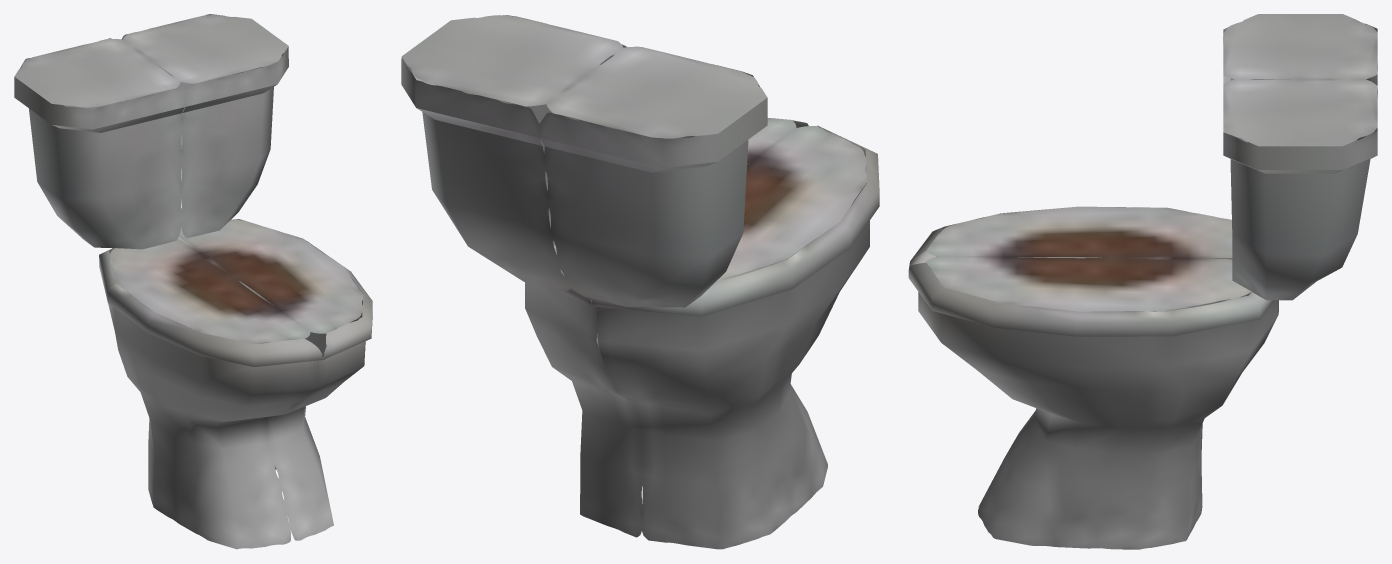
File: toilet--2.gltf
3 views of the same model, side by side, from view 1: azimuth 30°, elevation 25°; view 2: azimuth 150°, elevation 25°; view 3: azimuth 270°, elevation 25° (orthographic). The views are drawn at different scales.
Parts seen in each view (by area): view 1: Toilet_1; view 2: Toilet_1; view 3: Toilet_1.
Part boxes in pixels (x1=…): Toilet_1: x1=14, y1=14, x2=372, y2=549; Toilet_1: x1=401, y1=15, x2=879, y2=549; Toilet_1: x1=908, y1=14, x2=1377, y2=549.
Size of the model in its own units: 0.5552 by 0.8467 by 0.8335.
1 material, 1 textured.
